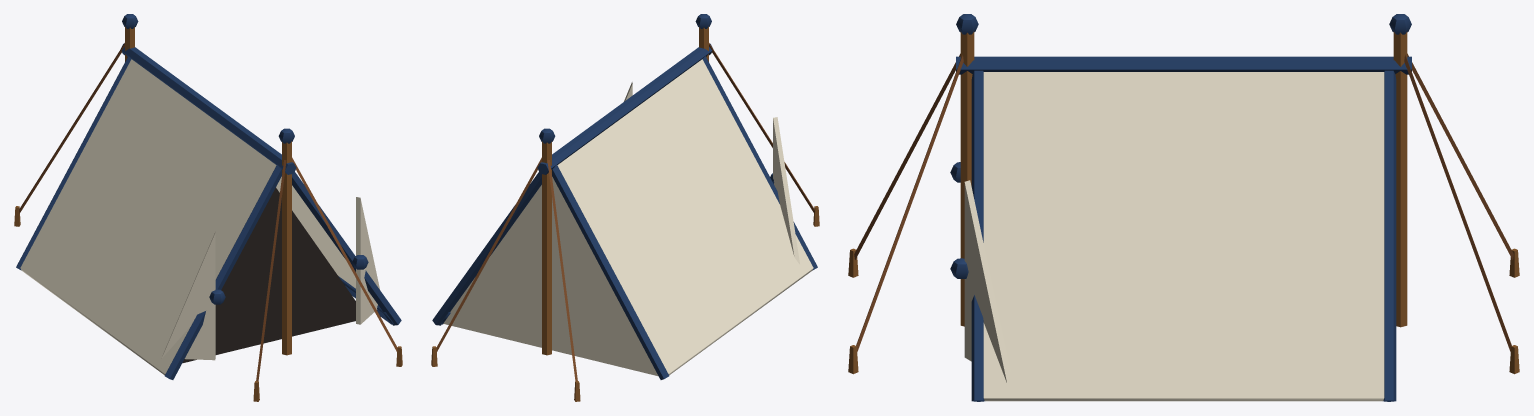
Rendered from tent.glb.
3 renders of one model, left to right at view 1: azimuth 30°, elevation 25°; view 2: azimuth 150°, elevation 25°; view 3: azimuth 270°, elevation 25°, orthographic. The views are drawn at different scales.
Visible parts, largest first — view 1: tent; view 2: tent; view 3: tent.
Boxes of the visible parts, x1,y1,x2,y2 form: tent: (14, 14, 402, 401); tent: (431, 14, 819, 401); tent: (848, 14, 1519, 401).
Bounding box in the file's own units: 0.6598 × 0.607 × 1.18.
